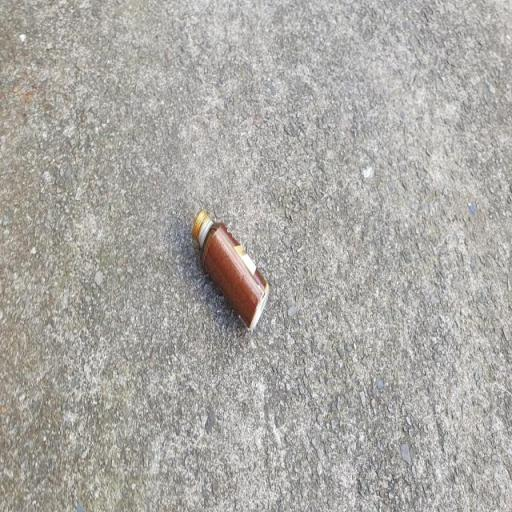metal: (190, 192, 282, 342)
